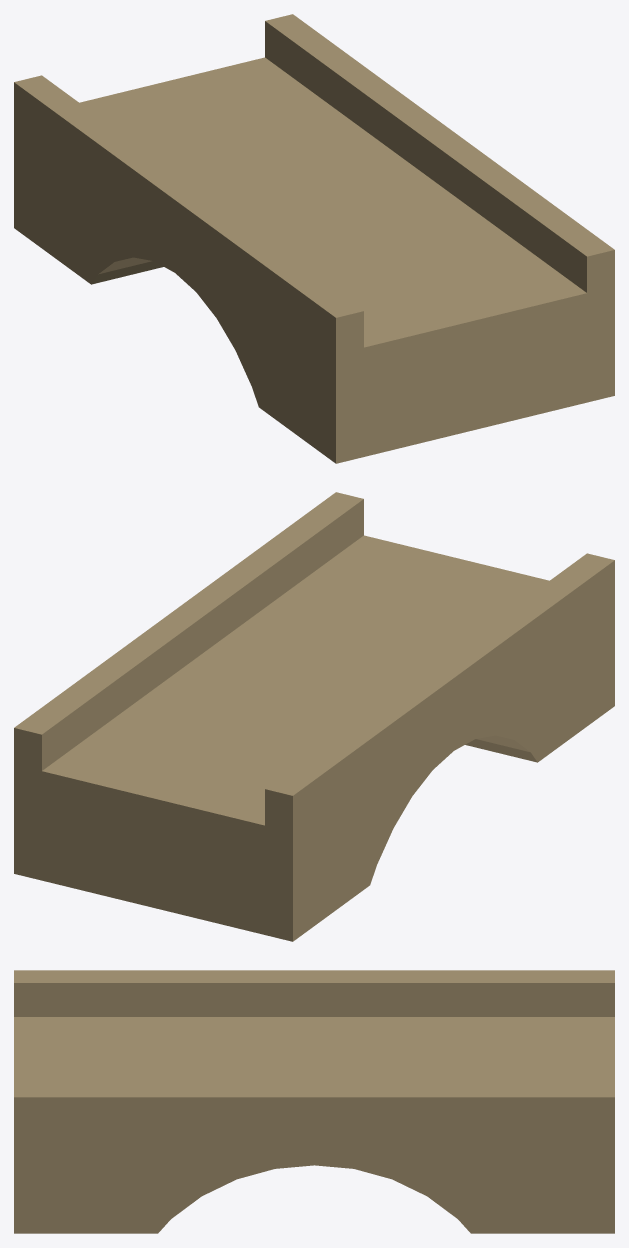
The model's file is bridge.fbx.
3 views of the same model, one above another, from view 1: azimuth 30°, elevation 25°; view 2: azimuth 150°, elevation 25°; view 3: azimuth 270°, elevation 25° (orthographic). The views are drawn at different scales.
Visible parts, largest first — view 1: bridge; view 2: bridge; view 3: bridge.
Boxes of the visible parts, x1,y1,x2,y2 form: bridge: (14, 14, 614, 463); bridge: (14, 492, 614, 941); bridge: (14, 970, 614, 1233).
Bounding box in the file's own units: 6.4 × 12.8 × 3.2.
